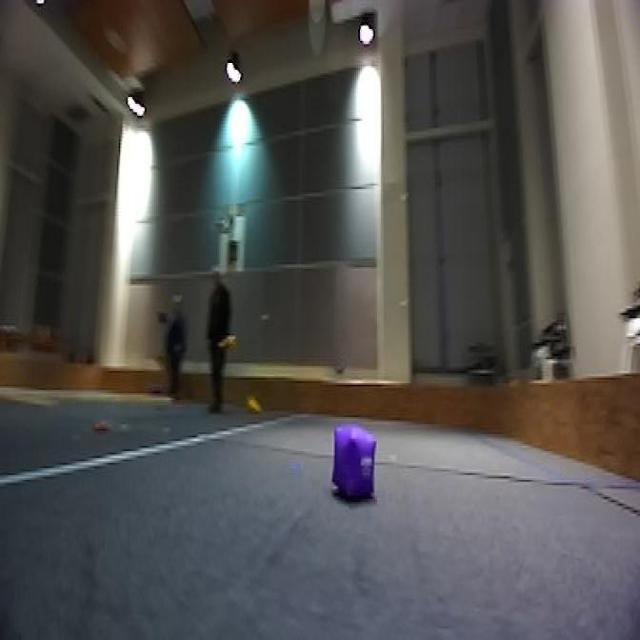frc_cone: (218, 330, 241, 358), (243, 392, 264, 416)
frc_cube: (331, 422, 377, 502)
